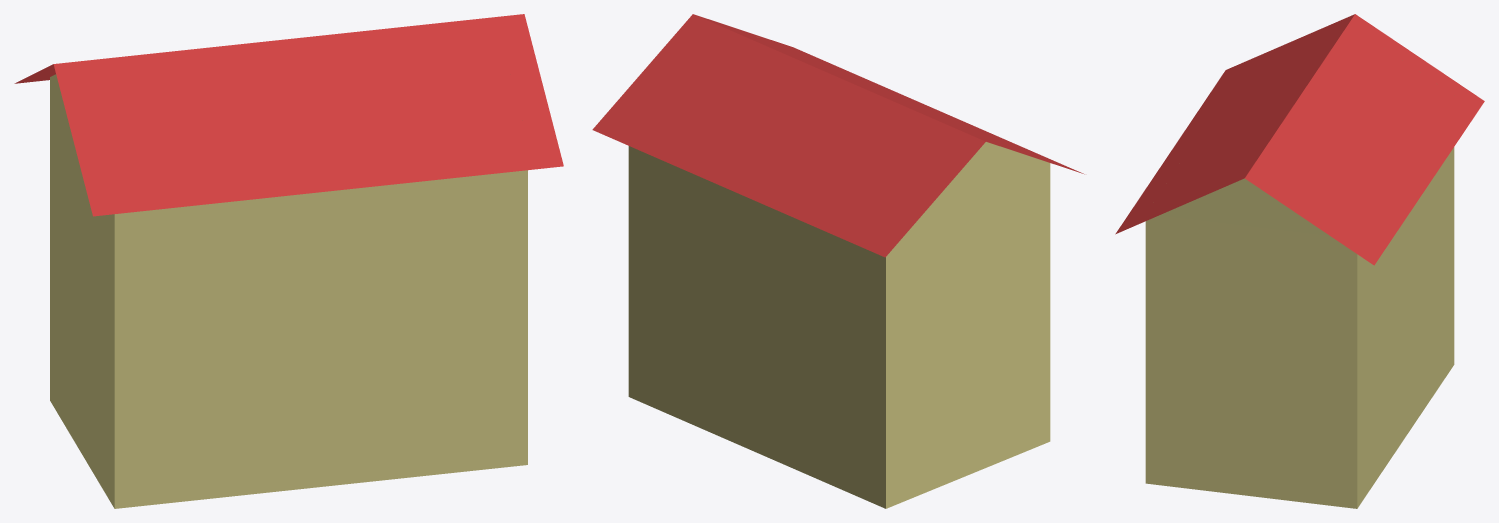
3 renders of one model, left to right at view 1: azimuth 30°, elevation 25°; view 2: azimuth 150°, elevation 25°; view 3: azimuth 270°, elevation 25°, orthographic. The views are drawn at different scales.
Size of the model in its own units: 9.35 by 7.47 by 7.31.
